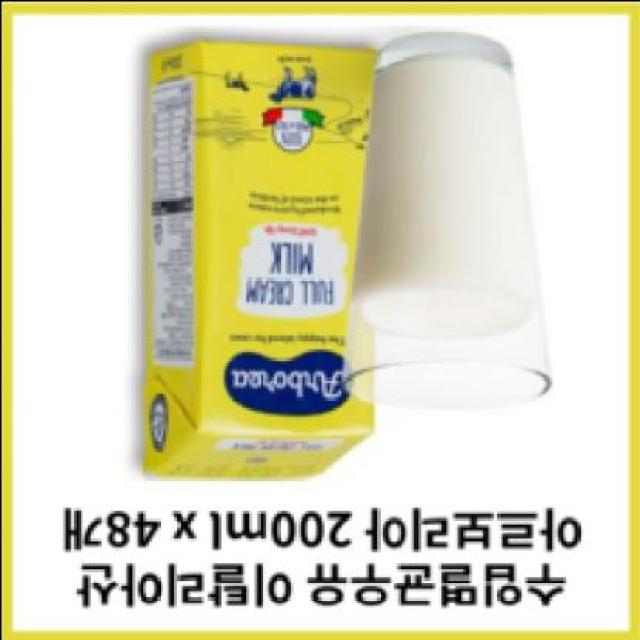tetra: (123, 32, 380, 493)
